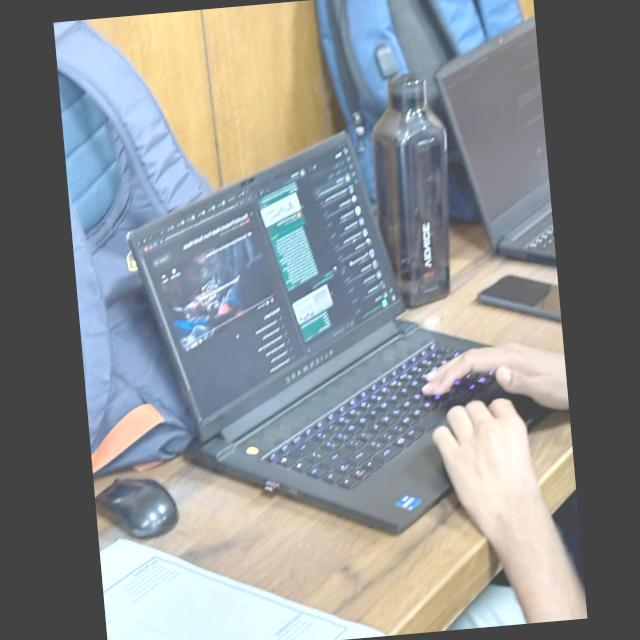laptop: (130, 132, 499, 531)
